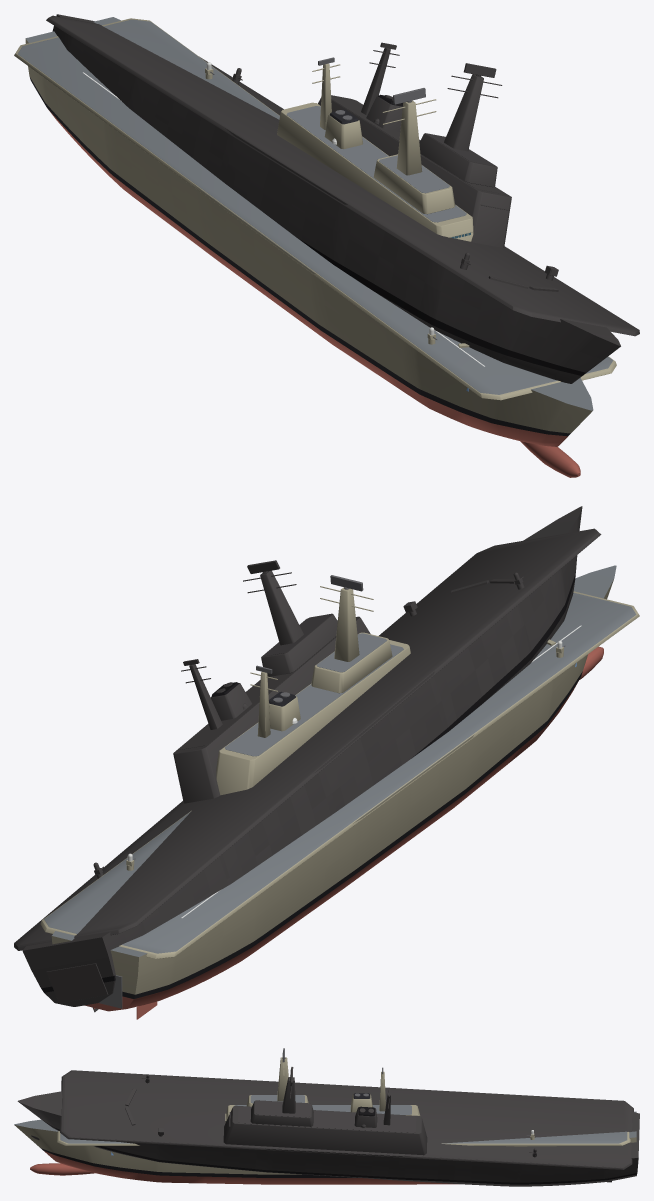
File: landingShip__dokdo_class.glb
3 views of the same model, one above another, from view 1: azimuth 30°, elevation 25°; view 2: azimuth 150°, elevation 25°; view 3: azimuth 270°, elevation 25° (orthographic). The views are drawn at different scales.
Parts seen in each view (by area): view 1: Hull_Mesh, Wreck; view 2: Wreck, Hull_Mesh; view 3: Wreck, Hull_Mesh.
Boxes of the visible parts, <box> form: Hull_Mesh: <box>14,17,616,477</box>; Wreck: <box>46,14,639,383</box>; Wreck: <box>14,506,601,1012</box>; Hull_Mesh: <box>40,565,639,1019</box>; Wreck: <box>17,1067,639,1186</box>; Hull_Mesh: <box>14,1057,636,1184</box>.
Size of what is drawn, in the model's own units: 48.09 by 51.83 by 209.
